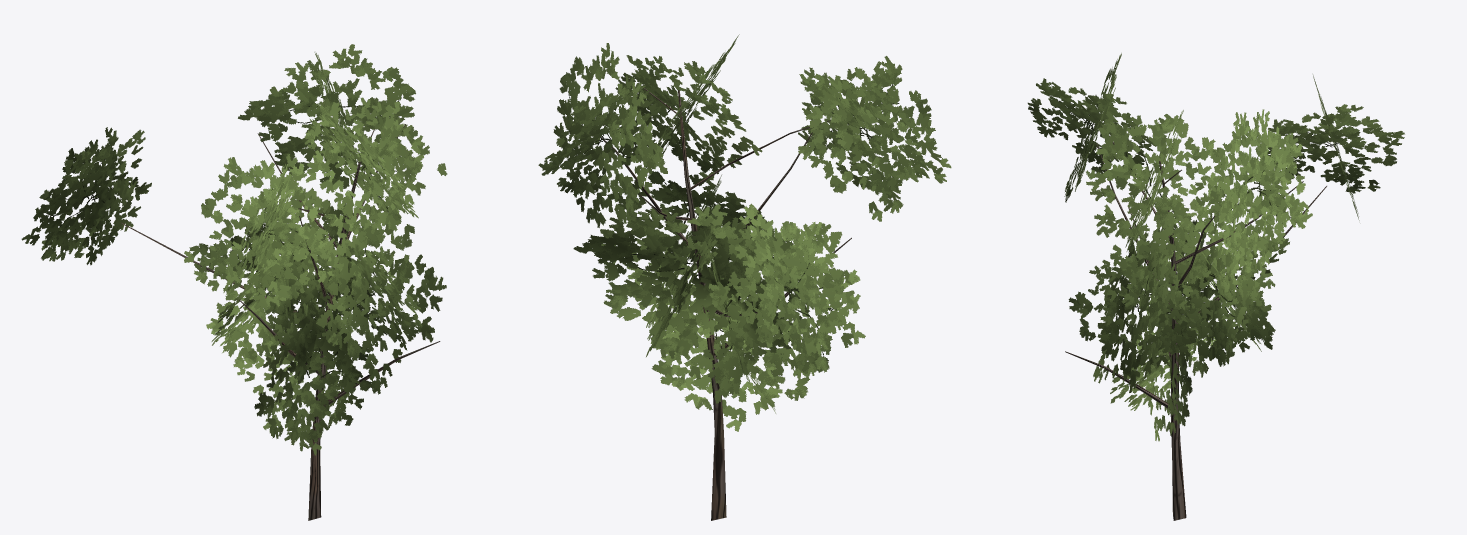
File: sapling-a.lod1.glb
The picture shows the model from 3 angles, left to right: view 1: azimuth 30°, elevation 25°; view 2: azimuth 150°, elevation 25°; view 3: azimuth 270°, elevation 25°; orthographic projection. The views are drawn at different scales.
Parts seen in each view (by area): view 1: foliage, bark; view 2: foliage, bark; view 3: foliage, bark.
Boxes of the visible parts, left/top/right/bottom form: foliage: left=21, top=44, right=447, bottom=455; bark: left=121, top=124, right=440, bottom=520; foliage: left=538, top=34, right=951, bottom=431; bark: left=600, top=88, right=851, bottom=520; foliage: left=1027, top=53, right=1404, bottom=441; bark: left=1065, top=135, right=1326, bottom=520.
Size of the model in its own units: 1.13 by 1.3 by 1.14.
Materials: 2 (2 with a texture image).
